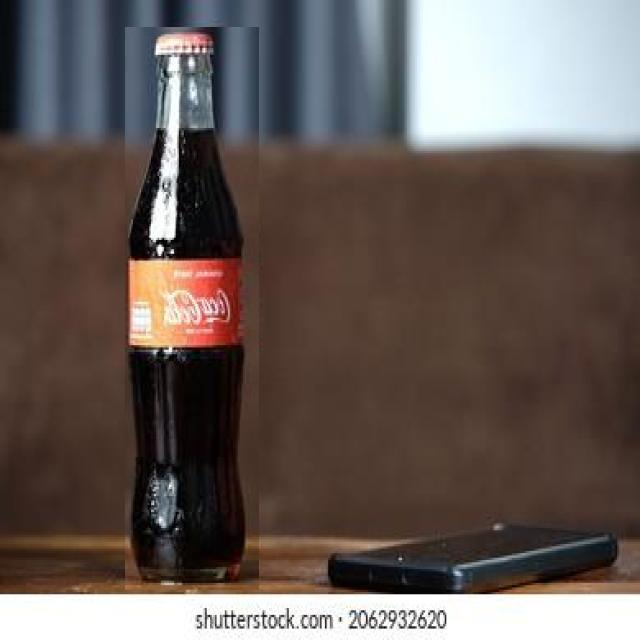coca-cola: (125, 27, 259, 590)
